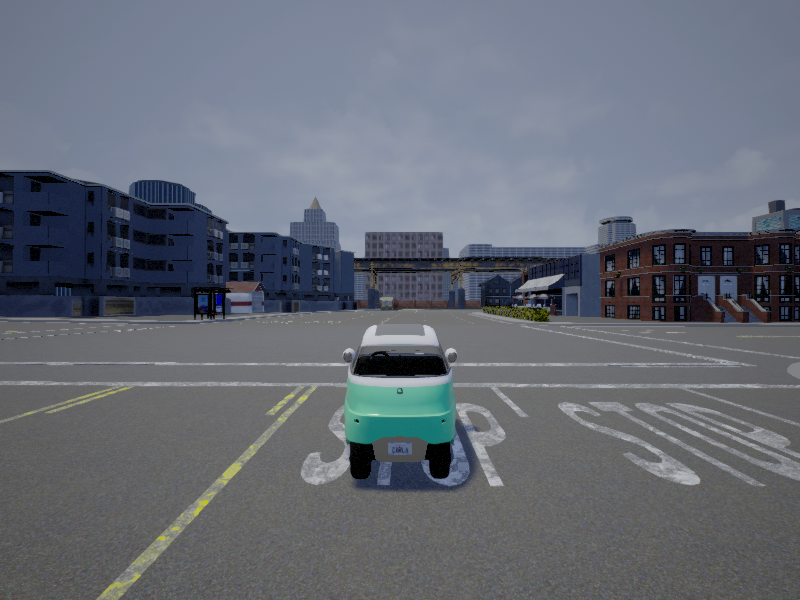Benign: (344, 323, 456, 479)
